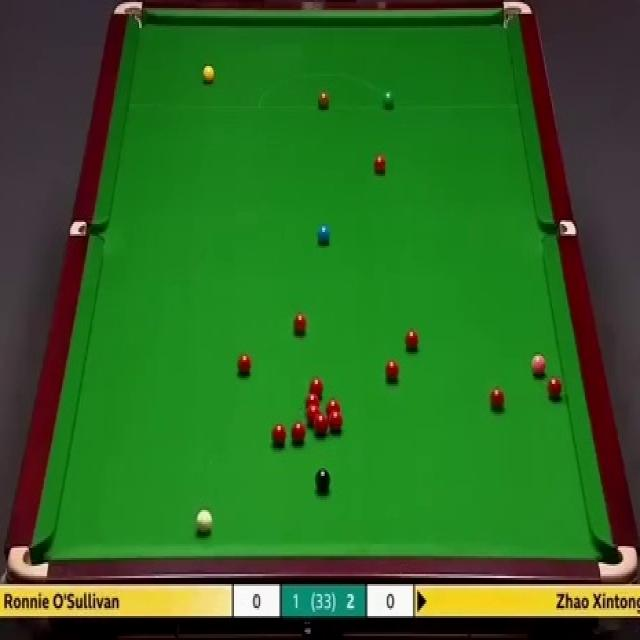black-ball: (315, 467, 331, 493)
blue-ball: (317, 224, 330, 242)
brown-ball: (317, 92, 330, 109)
green-ball: (382, 89, 395, 109)
pink-ball: (530, 354, 548, 378)
red-ball: (546, 377, 564, 403), (490, 387, 505, 412), (314, 414, 328, 439), (236, 354, 252, 375), (328, 411, 344, 432), (291, 421, 306, 443), (272, 423, 287, 445), (384, 361, 398, 382), (292, 309, 307, 328), (326, 398, 340, 416), (406, 330, 418, 350), (306, 408, 319, 426), (311, 377, 322, 398), (375, 155, 386, 176), (306, 397, 319, 413)
white-ball: (194, 510, 214, 536)
yellow-ball: (202, 64, 214, 85)
